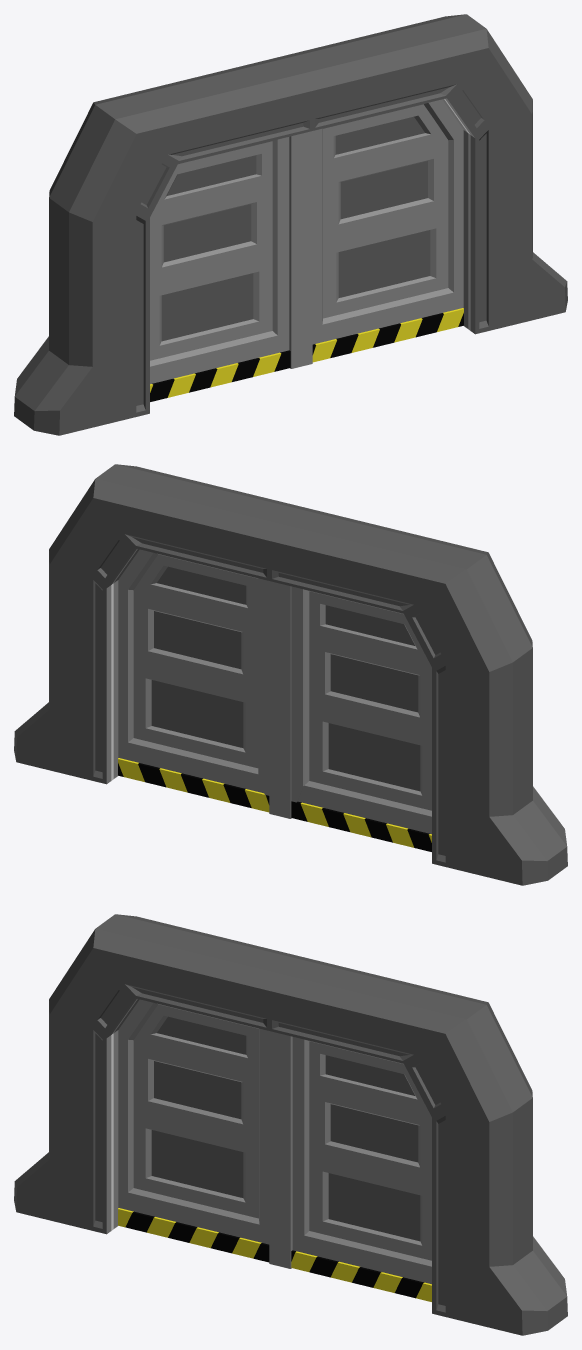
File: gate.fbx
3 views of the same model, one above another, from view 1: azimuth 30°, elevation 25°; view 2: azimuth 150°, elevation 25°; view 3: azimuth 330°, elevation 25° (orthographic).
Visible parts, largest first — view 1: Frame, Door2, Door1; view 2: Frame, Door2, Door1; view 3: Frame, Door1, Door2.
Part boxes in pixels (bbox=[...]): Frame: bbox=[14, 14, 567, 435]; Door2: bbox=[301, 99, 463, 366]; Door1: bbox=[150, 131, 310, 401]; Frame: bbox=[14, 464, 567, 885]; Door2: bbox=[118, 549, 280, 816]; Door1: bbox=[271, 581, 431, 851]; Frame: bbox=[14, 914, 567, 1335]; Door1: bbox=[118, 999, 288, 1265]; Door2: bbox=[279, 1036, 431, 1301].
Size of the model in its own units: 634 by 331 by 88.58.
